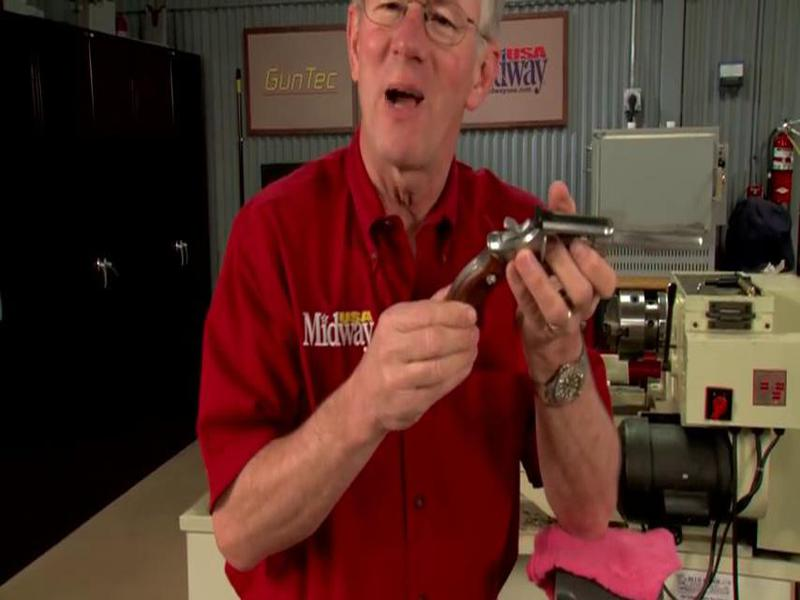Revolver: (429, 186, 711, 355)
